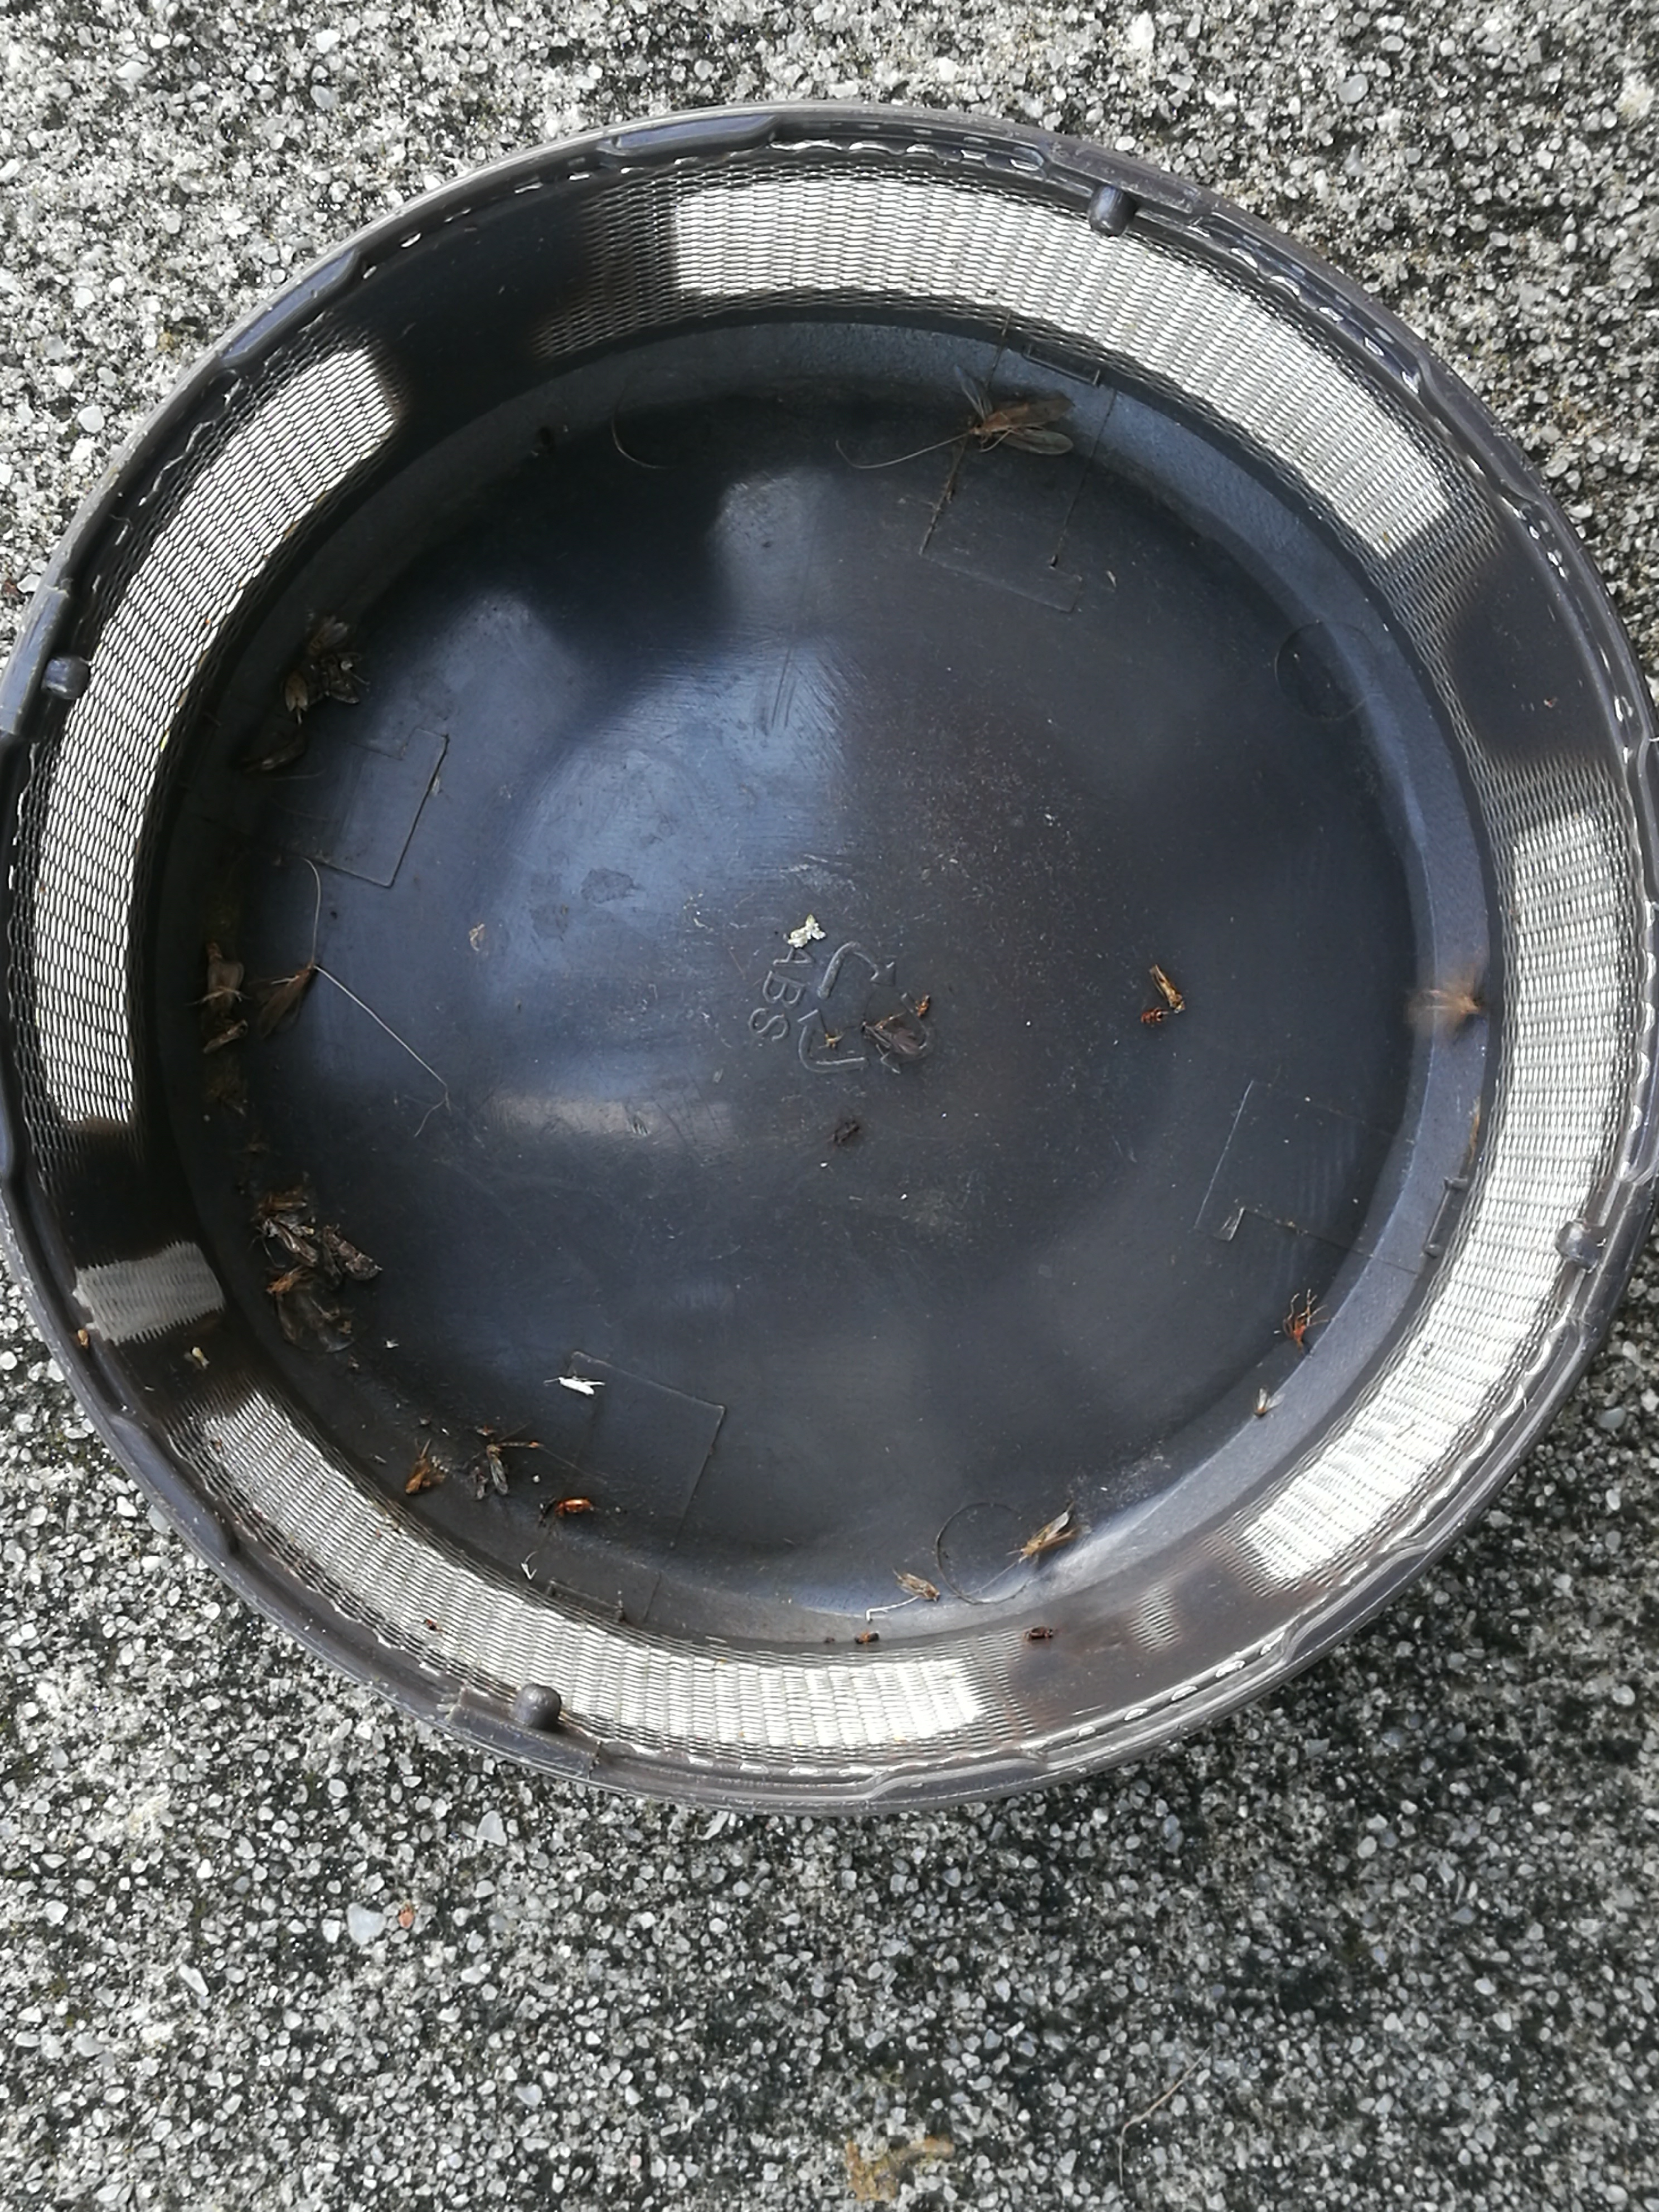mosquito: (258, 965, 317, 1036), (242, 735, 305, 775), (1021, 1514, 1075, 1557), (1150, 965, 1187, 1014), (863, 1024, 918, 1054), (265, 1266, 308, 1298), (308, 618, 345, 651), (488, 1442, 509, 1494), (896, 1576, 939, 1601), (204, 1029, 240, 1055), (263, 1191, 308, 1211)
moth: (957, 368, 1073, 455), (1410, 956, 1481, 1045), (321, 1224, 380, 1289), (263, 1211, 317, 1268), (310, 655, 361, 704), (207, 961, 242, 1028), (404, 1461, 444, 1494), (284, 671, 307, 711)
